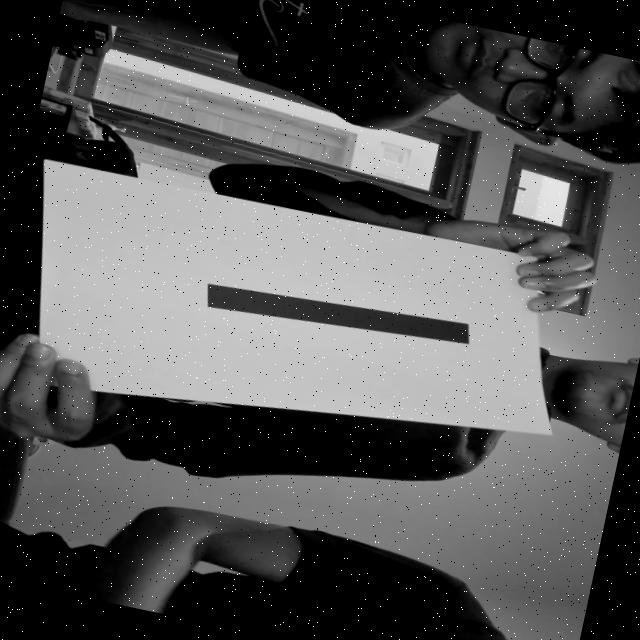i: (140, 248, 500, 392)
